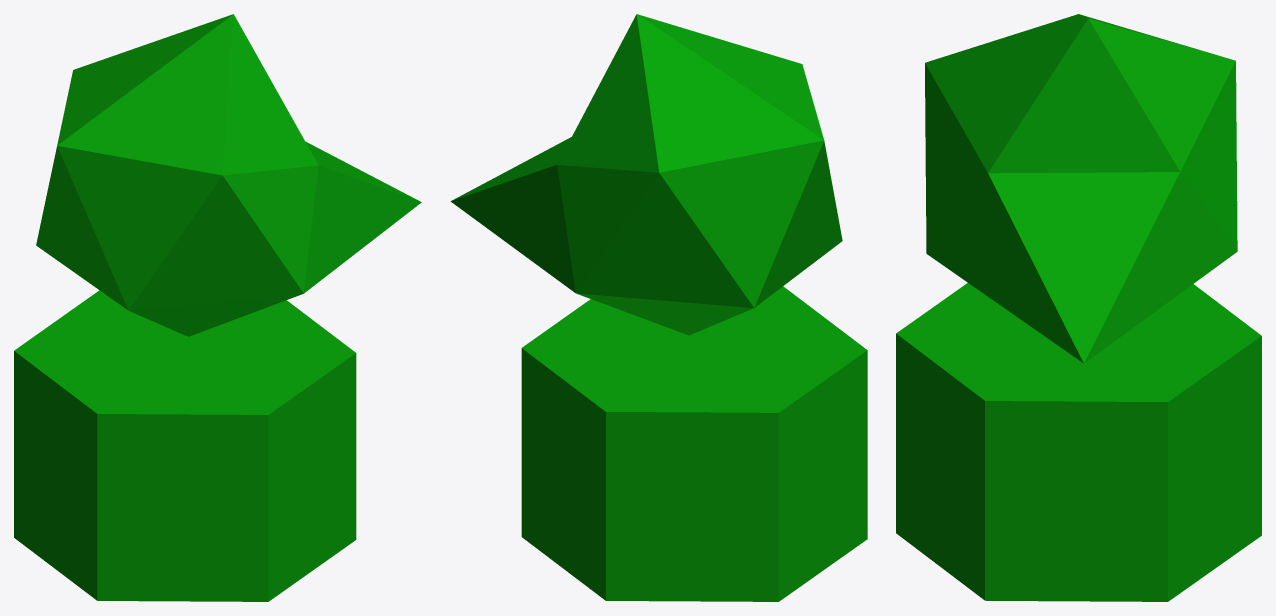
Rendered from ico_man.obj.
The picture shows the model from 3 angles, left to right: view 1: azimuth 30°, elevation 25°; view 2: azimuth 150°, elevation 25°; view 3: azimuth 270°, elevation 25°; orthographic projection. The views are drawn at different scales.
Visible parts, largest first — view 1: Cylinder; view 2: Cylinder; view 3: Cylinder.
Boxes of the visible parts, bbox=[...] form: Cylinder: bbox=[14, 14, 421, 601]; Cylinder: bbox=[450, 14, 867, 601]; Cylinder: bbox=[896, 14, 1261, 601].
Bounding box in the file's own units: 2.49 × 3.28 × 2.
